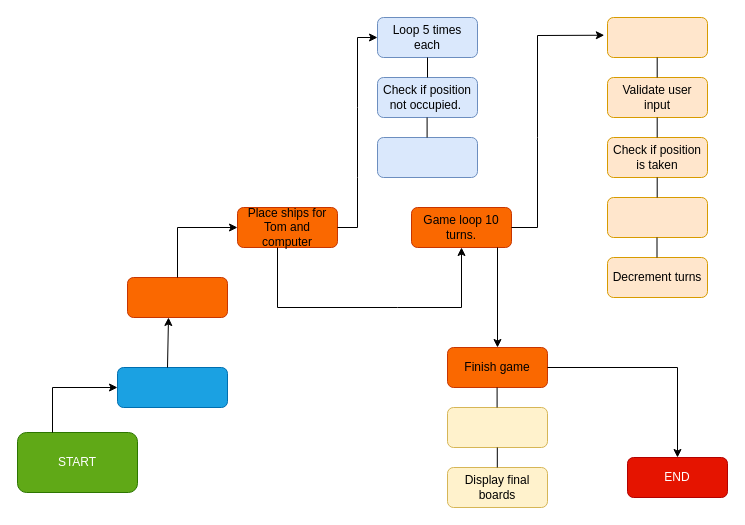
The diagram is 745 pixels wide and 525 high, and some of its shapes have lost their labels. The centre of each missing label's shape, as x and y in pixels:
"Ask user position" belongs at (x=657, y=37).
"Create 'Table game' instances" belongs at (x=177, y=297).
"Display game over message" belongs at (x=497, y=427).
"HIT = X MISS = -" belongs at (x=657, y=217).
"INITIALIZE GAME BOARD" belongs at (x=172, y=387).
"Place ship in coordenates (x, y)" belongs at (x=427, y=157).
